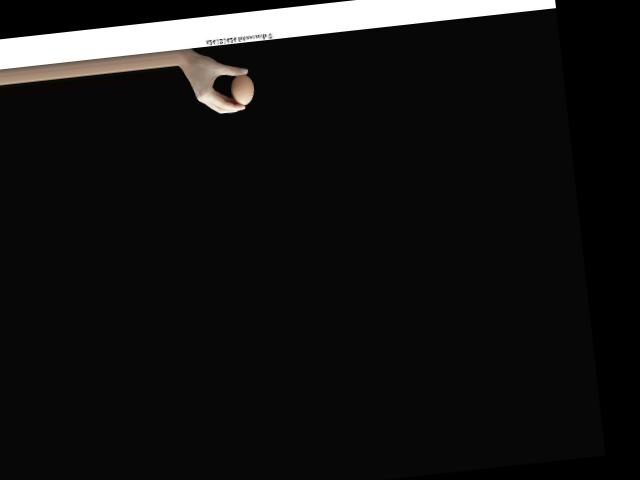egg: (230, 73, 255, 106)
